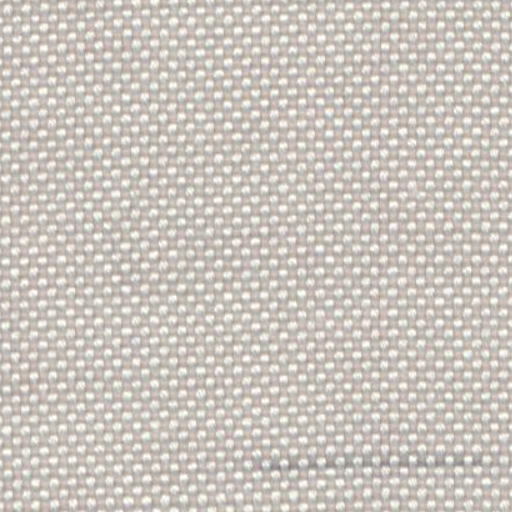WuZi: (258, 448, 488, 470)
